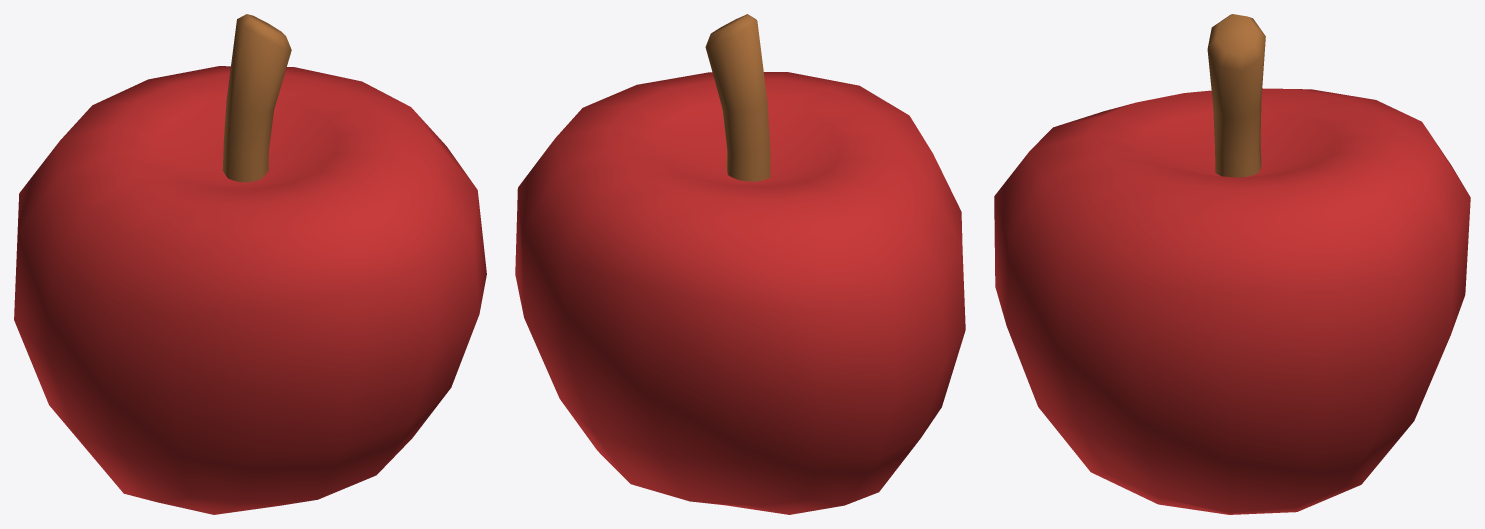
File: Apple.fbx
3 views of the same model, side by side, from view 1: azimuth 30°, elevation 25°; view 2: azimuth 150°, elevation 25°; view 3: azimuth 270°, elevation 25° (orthographic). The views are drawn at different scales.
Parts seen in each view (by area): view 1: Apple; view 2: Apple; view 3: Apple.
Part boxes in pixels (left/top/right/bottom): Apple: left=14, top=14, right=486, bottom=514; Apple: left=515, top=14, right=965, bottom=514; Apple: left=994, top=14, right=1470, bottom=514.
Bounding box in the file's own units: 1.63 × 1.8 × 1.63.
